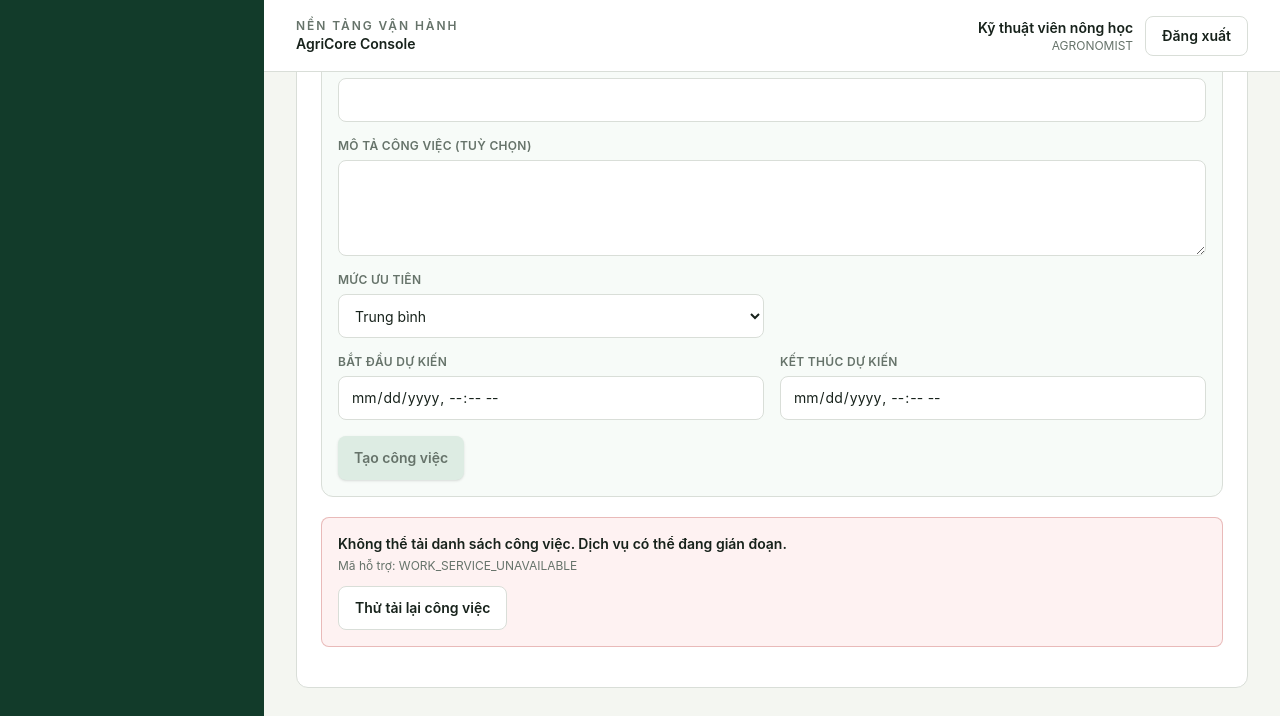
Test: work-task workspace resilience › lets the operator recover manually after the automatic retry
(page scrolled)
Check: the message named "Không thể tải công việc" shows "WORK_SERVICE_UNAVAILABLE", box [399, 558, 577, 573]
Click the button "Thử tải lại công việc". click: (423, 608)
box: [338, 586, 507, 630]
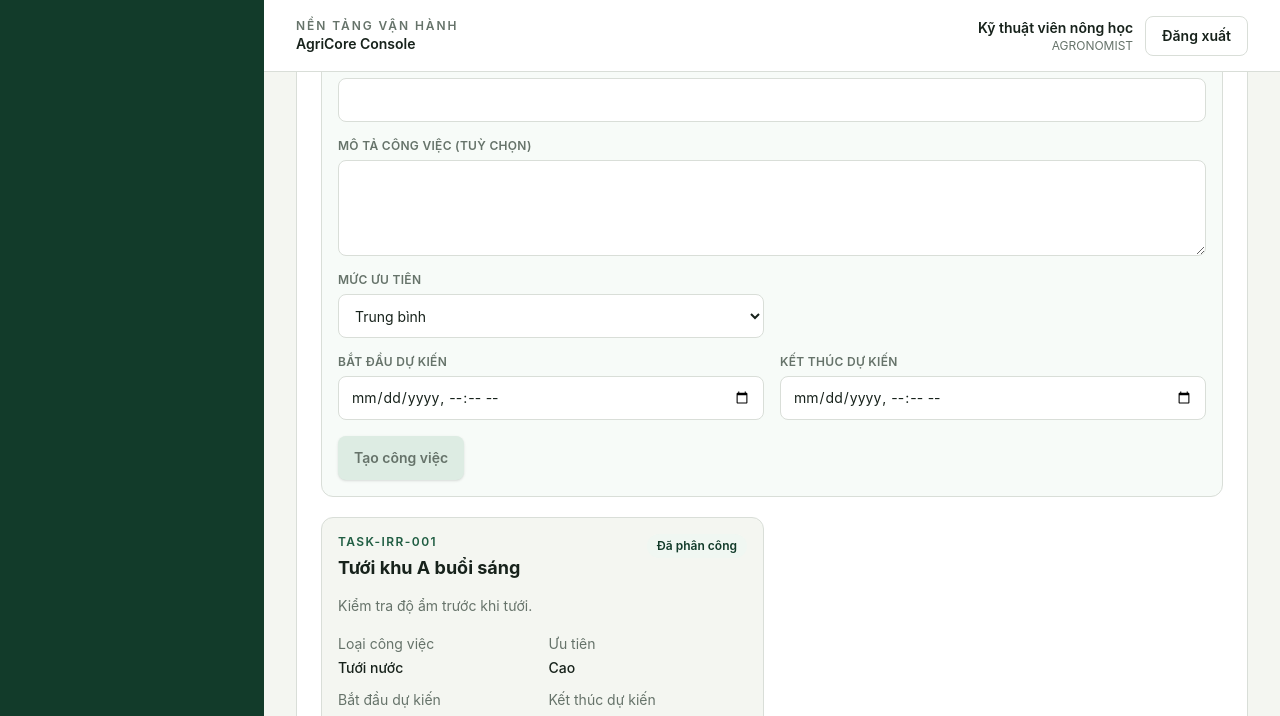
Check: the heading "Tưới khu A buổi sáng" is shown, box [338, 554, 520, 582]
